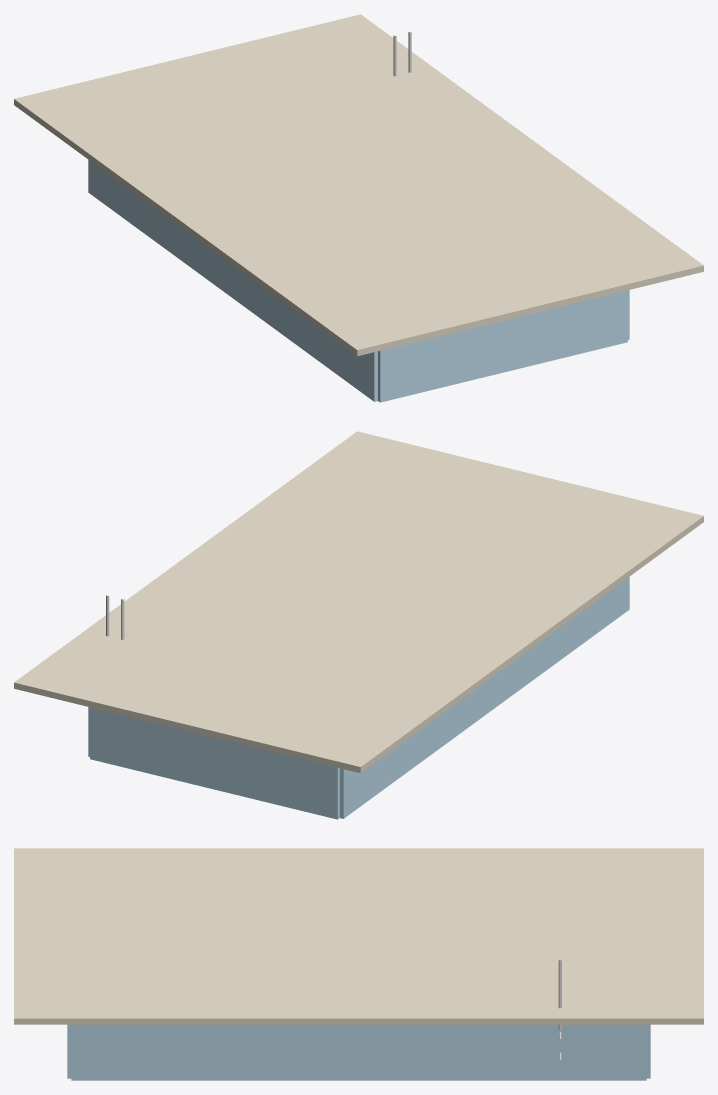
File: swimming-pool.glb
3 views of the same model, one above another, from view 1: azimuth 30°, elevation 25°; view 2: azimuth 150°, elevation 25°; view 3: azimuth 270°, elevation 25° (orthographic).
Parts seen in each view (by area): view 1: deck, wall-far, wall-left; view 2: deck, wall-near, wall-left; view 3: deck, wall-right.
Boxes of the visible parts, x1,y1,x2,y2 form: deck: [14, 14, 703, 356]; wall-far: [378, 290, 627, 402]; wall-left: [88, 160, 377, 401]; deck: [14, 431, 703, 773]; wall-near: [90, 707, 339, 819]; wall-left: [340, 577, 629, 818]; deck: [14, 848, 703, 1024]; wall-right: [71, 1024, 646, 1080].
Size of the model in its own units: 7 by 2.4 by 12.
